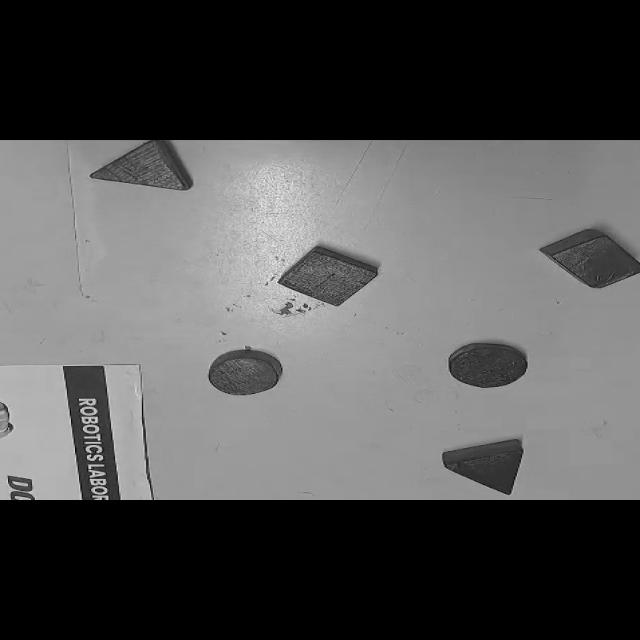bcircle: (445, 342, 530, 389)
bcube: (276, 246, 382, 308)
btriangle: (442, 438, 526, 495)
rcircle: (206, 349, 283, 396)
rcube: (538, 228, 638, 289)
rtriangle: (90, 140, 192, 192)
